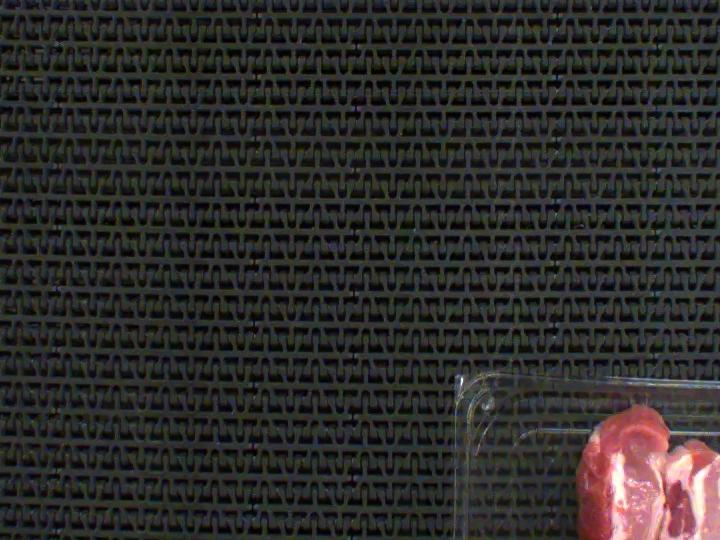packaging-error: (620, 386, 658, 413)
